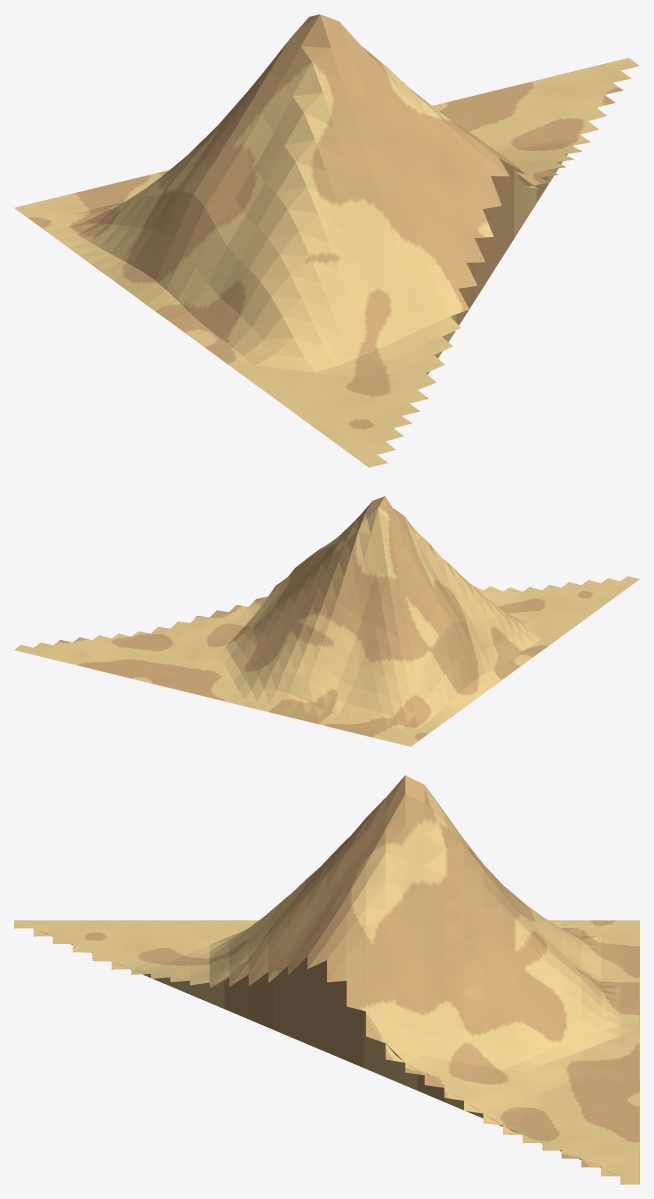
The model's file is Desert_Mountains_08_SW.obj.
3 renders of one model, top to bottom at view 1: azimuth 30°, elevation 25°; view 2: azimuth 150°, elevation 25°; view 3: azimuth 270°, elevation 25°, orthographic. The views are drawn at different scales.
Size of the model in its own units: 10 by 3.87 by 10.
Materials: 1 (1 with a texture image).
